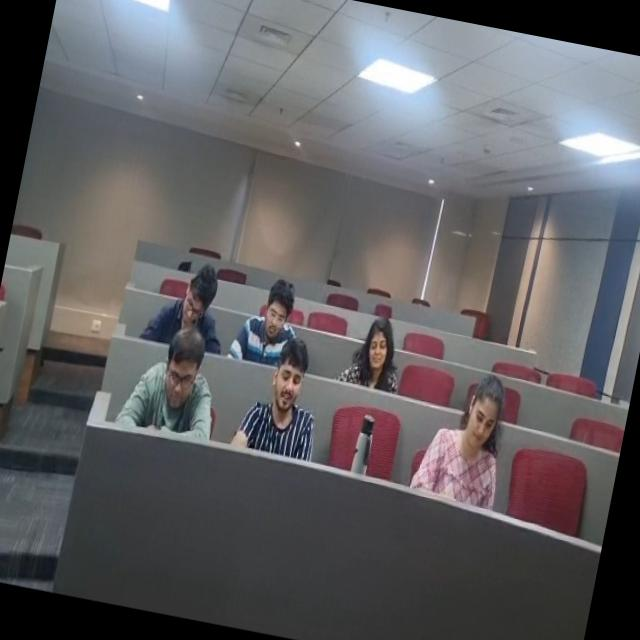cheating: (245, 327, 338, 465), (133, 325, 235, 447), (141, 244, 243, 357)
non-cheating: (419, 360, 528, 511), (140, 241, 246, 361), (238, 262, 325, 370), (330, 292, 416, 399)
